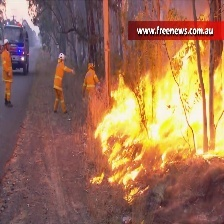fire: (85, 50, 222, 186)
